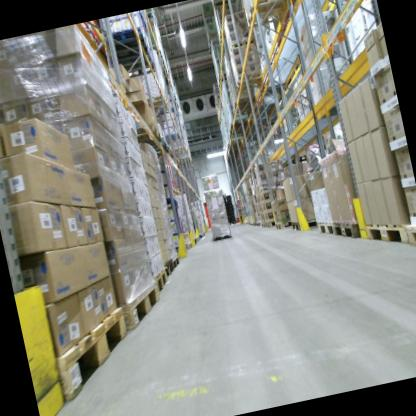pallet: (41, 293, 139, 406), (112, 276, 166, 336), (363, 214, 412, 256), (98, 26, 149, 61), (243, 0, 295, 34), (109, 47, 153, 81), (330, 214, 366, 242), (224, 35, 259, 59), (232, 69, 265, 94), (131, 119, 161, 145), (142, 89, 172, 112), (152, 264, 171, 295), (159, 253, 178, 284), (289, 214, 318, 234), (402, 215, 416, 253), (146, 135, 170, 154), (171, 239, 195, 257), (231, 95, 256, 112), (231, 103, 259, 117), (315, 218, 334, 237), (211, 229, 234, 241), (273, 217, 293, 230), (168, 144, 187, 156), (169, 253, 180, 269), (264, 220, 276, 229), (260, 219, 267, 227), (255, 219, 261, 227)
